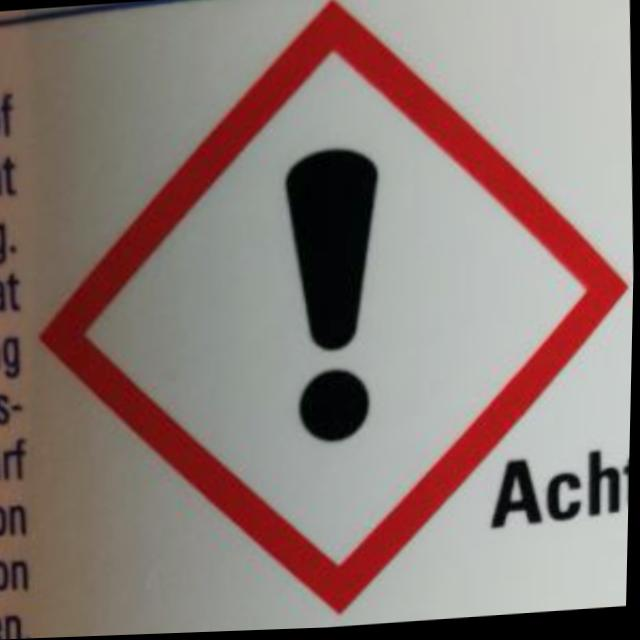health-ozone layer hazard: (274, 142, 394, 451)
